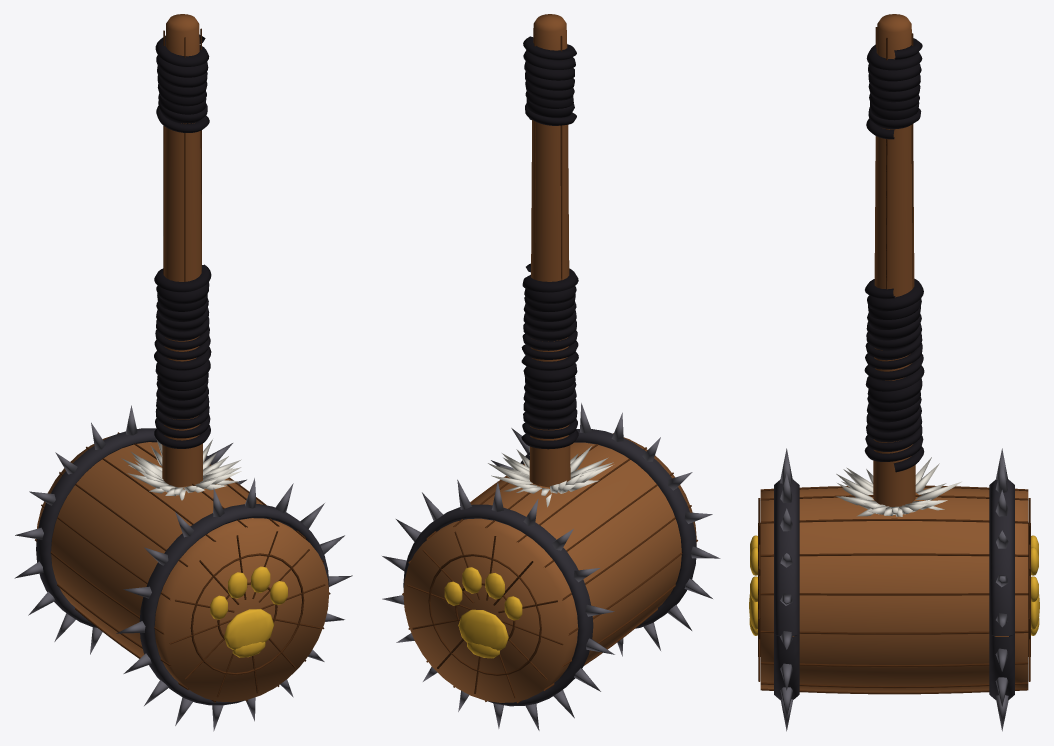
File: leonora.glb
3 renders of one model, left to right at view 1: azimuth 30°, elevation 25°; view 2: azimuth 150°, elevation 25°; view 3: azimuth 270°, elevation 25°, orthographic. The views are drawn at different scales.
Parts seen in each view (by area): view 1: P_leonora; view 2: P_leonora; view 3: P_leonora.
Boxes of the visible parts, bbox=[...] form: P_leonora: bbox=[14, 14, 352, 731]; P_leonora: bbox=[382, 14, 720, 730]; P_leonora: bbox=[749, 14, 1039, 731].
Size of the model in its own units: 0.49 by 1.33 by 0.4994.
